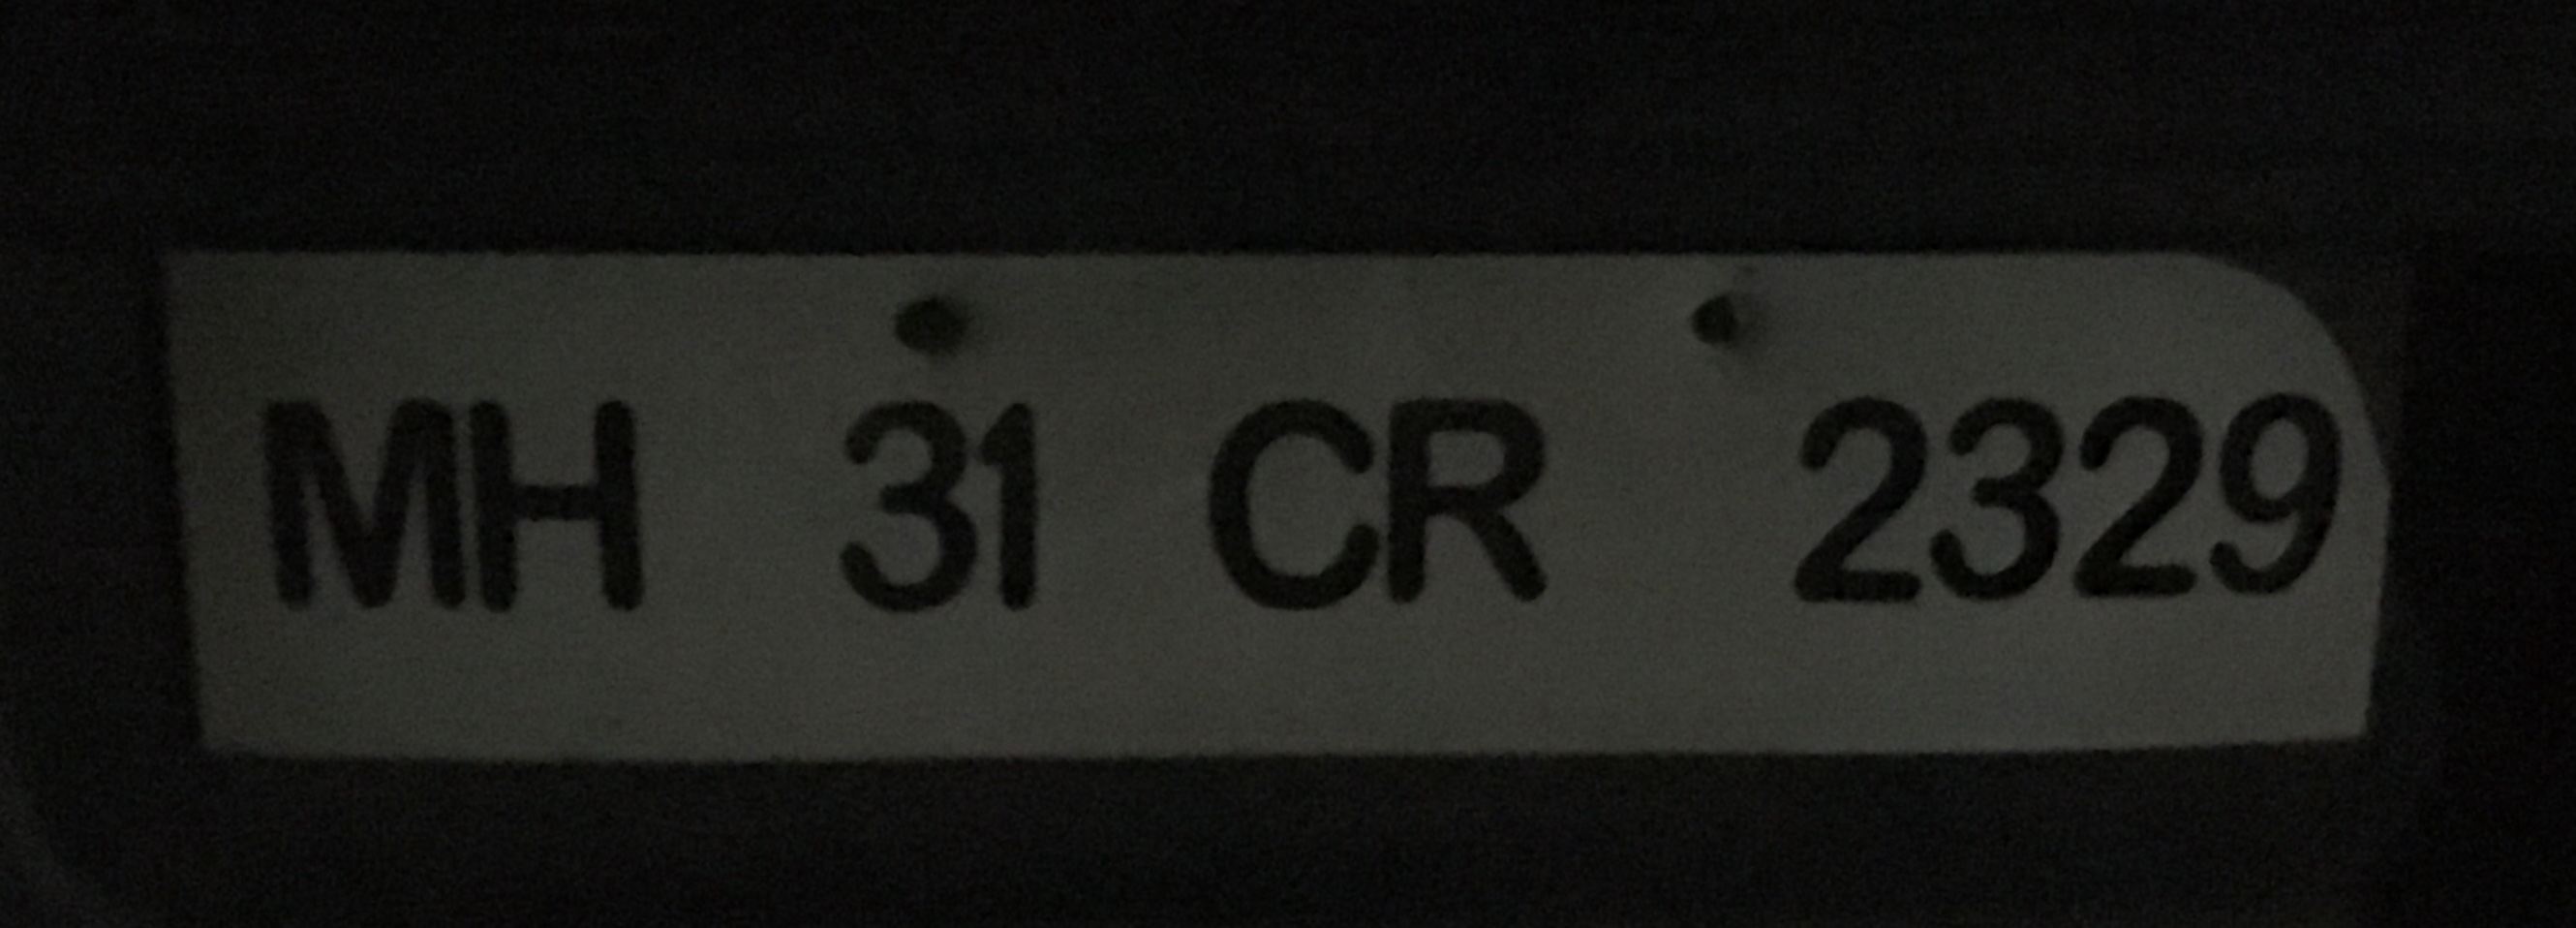numberplate: (144, 232, 2409, 776)
